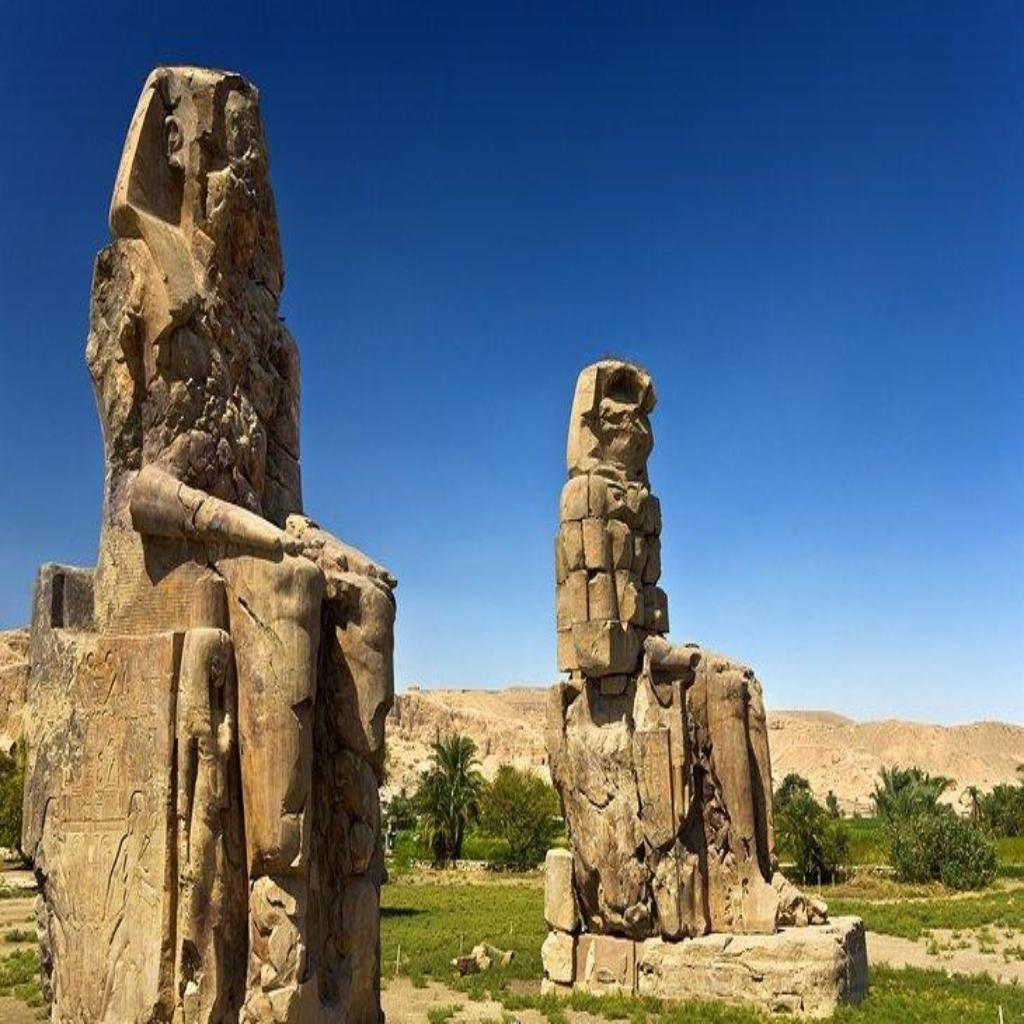Colossoi of Memnon: (16, 59, 402, 1020), (536, 349, 849, 1001)
